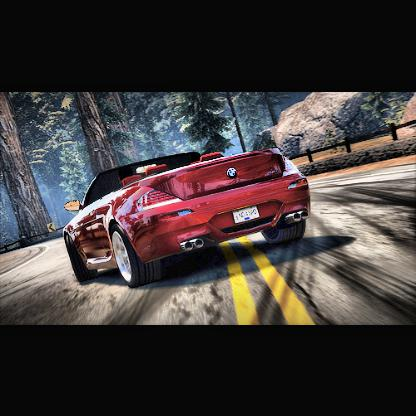BMW M6 Convertible 2010: (65, 151, 322, 289)
